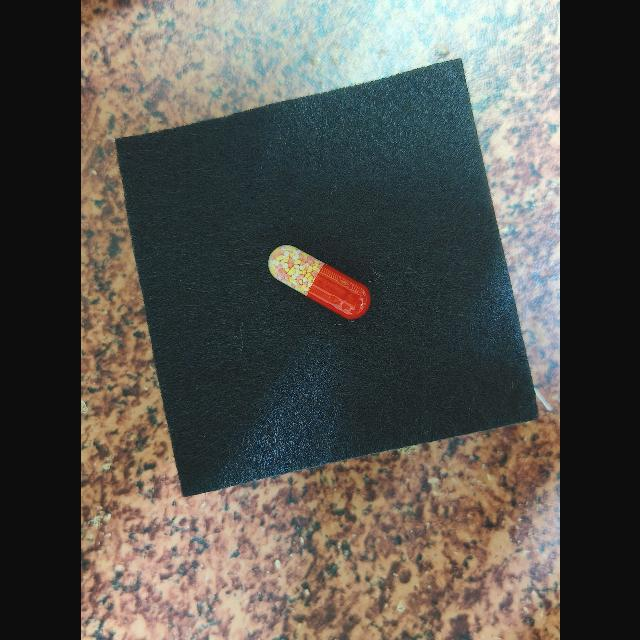Intact Capsule: (267, 245, 370, 320)
